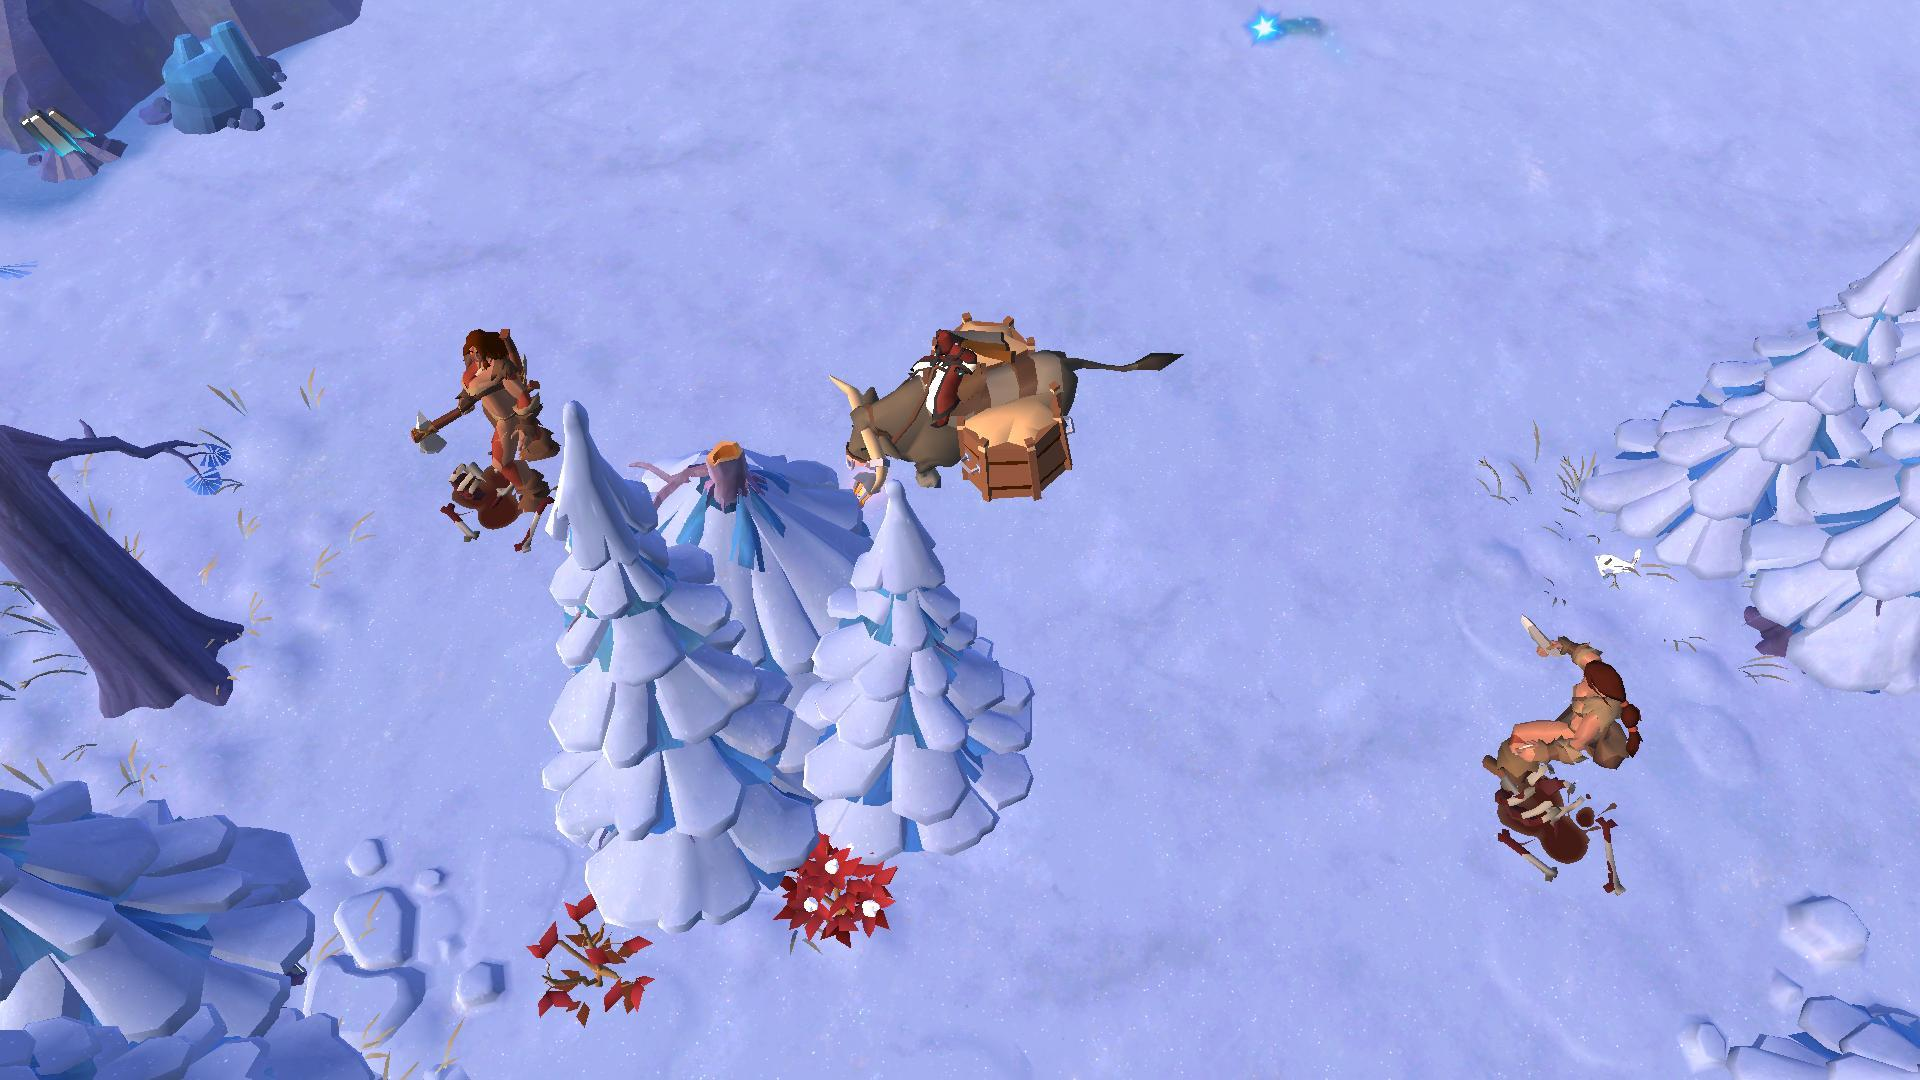enemy_factionKeeper: (1476, 624, 1650, 786), (423, 318, 559, 513)
fiber_t5: (773, 835, 894, 943)
ore_t4: (15, 96, 98, 173)
rock_t4: (140, 26, 282, 132)
